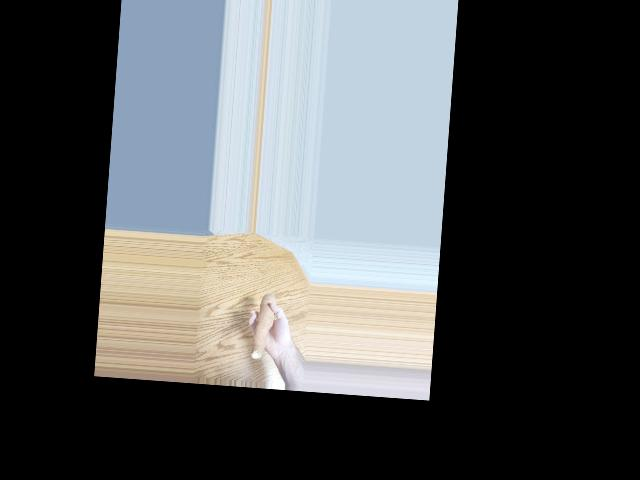sweet_potato: (253, 293, 277, 358)
